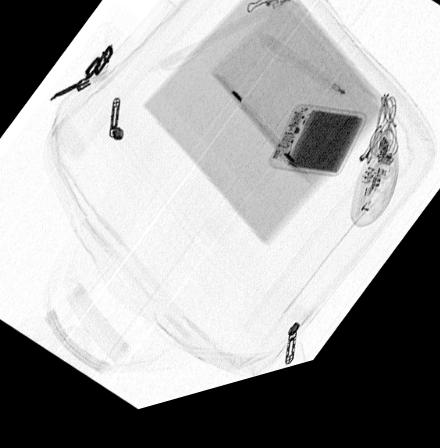Powerbank: (267, 120, 367, 197)
